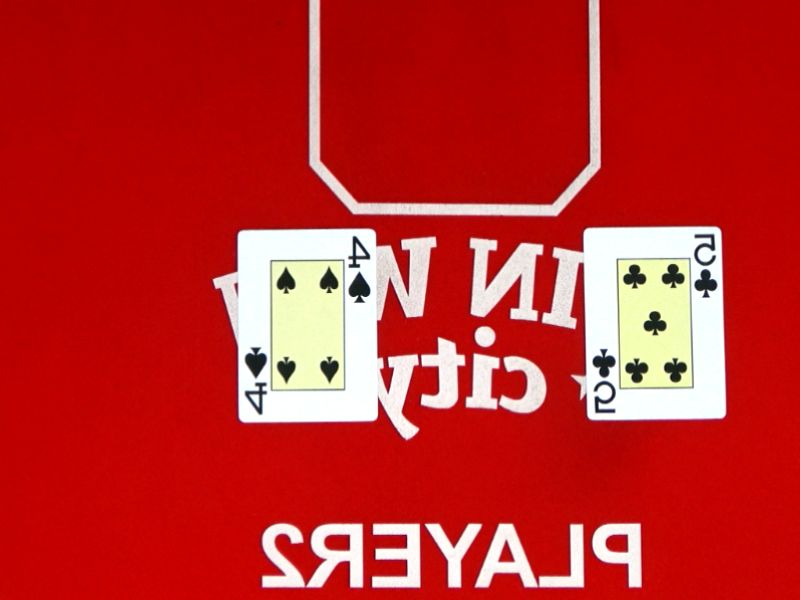4S: (317, 229, 404, 310), (212, 342, 294, 417)
5C: (565, 345, 643, 417), (667, 230, 745, 301)
